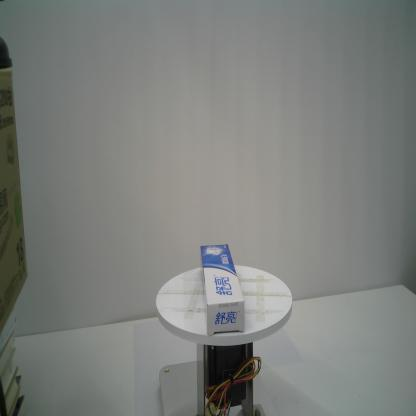Personal Hygiene: (200, 244, 245, 336)
